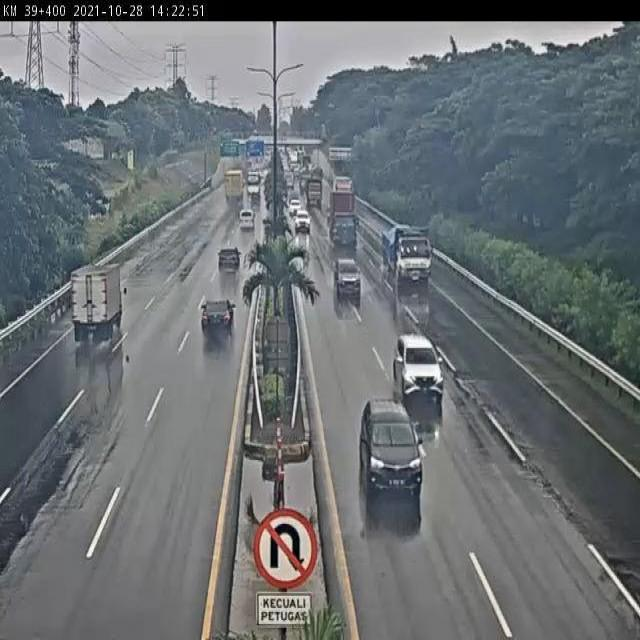truck-l-: (382, 223, 431, 293)
truck-m-: (71, 263, 127, 345)
truck-xl-: (330, 190, 362, 250)
